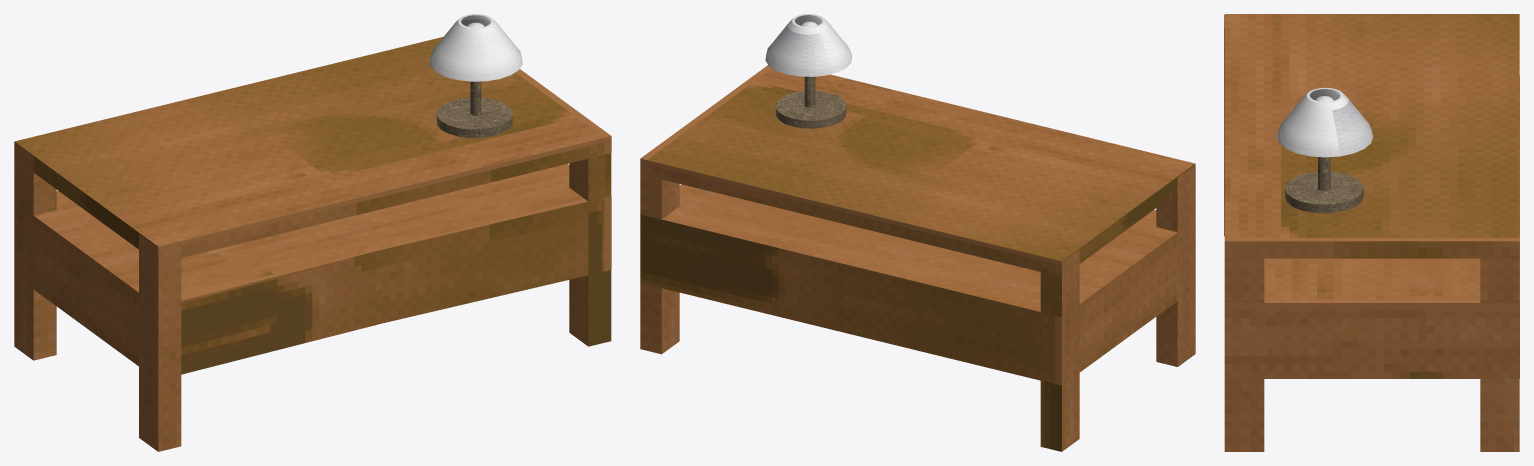
File: Tavolo_Lampadina.fbx
3 views of the same model, side by side, from view 1: azimuth 30°, elevation 25°; view 2: azimuth 150°, elevation 25°; view 3: azimuth 270°, elevation 25° (orthographic). The views are drawn at different scales.
Parts seen in each view (by area): view 1: tavolino, lampada.002, lampada.001; view 2: tavolino, lampada.002, lampada.001; view 3: tavolino, lampada.002, lampada.001, lampada.
Boxes of the visible parts, <box> form: tavolino: <box>14,37,611,451</box>; lampada.002: <box>429,14,522,81</box>; lampada.001: <box>436,97,512,137</box>; tavolino: <box>640,65,1195,451</box>; lampada.002: <box>765,14,851,76</box>; lampada.001: <box>775,91,846,128</box>; tavolino: <box>1224,14,1519,451</box>; lampada.002: <box>1277,87,1373,157</box>; lampada.001: <box>1285,172,1363,213</box>; lampada: <box>1318,157,1330,190</box>.
Size of the model in its own units: 1.13 by 0.7243 by 0.6198.
Materials: 4 (3 with a texture image).
